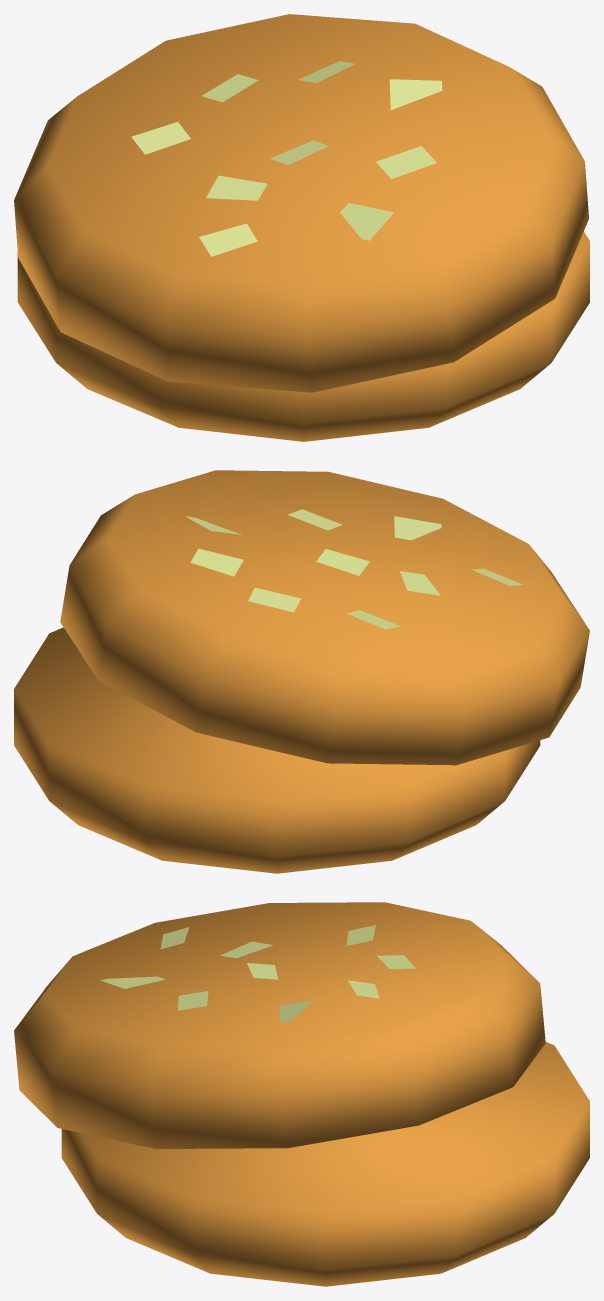
Rendered from BurgerBun.glb.
3 views of the same model, one above another, from view 1: azimuth 30°, elevation 25°; view 2: azimuth 150°, elevation 25°; view 3: azimuth 270°, elevation 25° (orthographic). The views are drawn at different scales.
Parts seen in each view (by area): view 1: Cylinder.004; view 2: Cylinder.004; view 3: Cylinder.004.
Boxes of the visible parts, x1,y1,x2,y2 form: Cylinder.004: (14,14,589,441); Cylinder.004: (14,470,589,873); Cylinder.004: (14,902,589,1286).
Bounding box in the file's own units: 0.4992 × 0.2272 × 0.5143.
